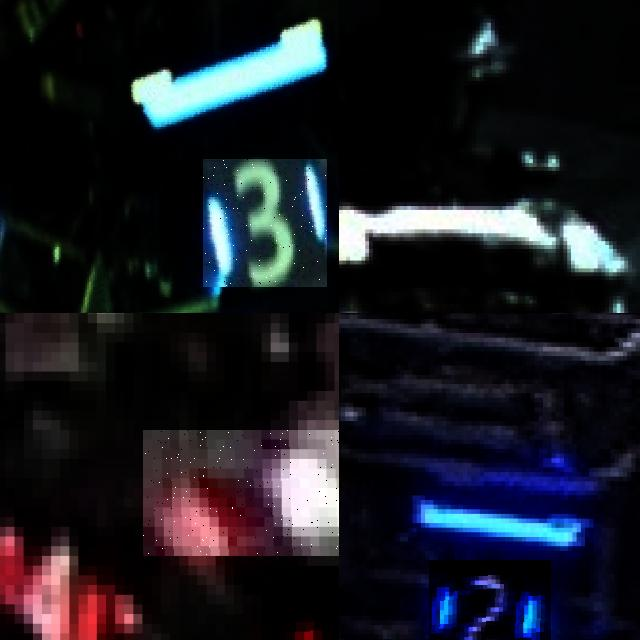B2: (429, 560, 551, 640)
B3: (203, 159, 327, 287)
R4: (142, 430, 339, 556), (0, 512, 119, 640)
